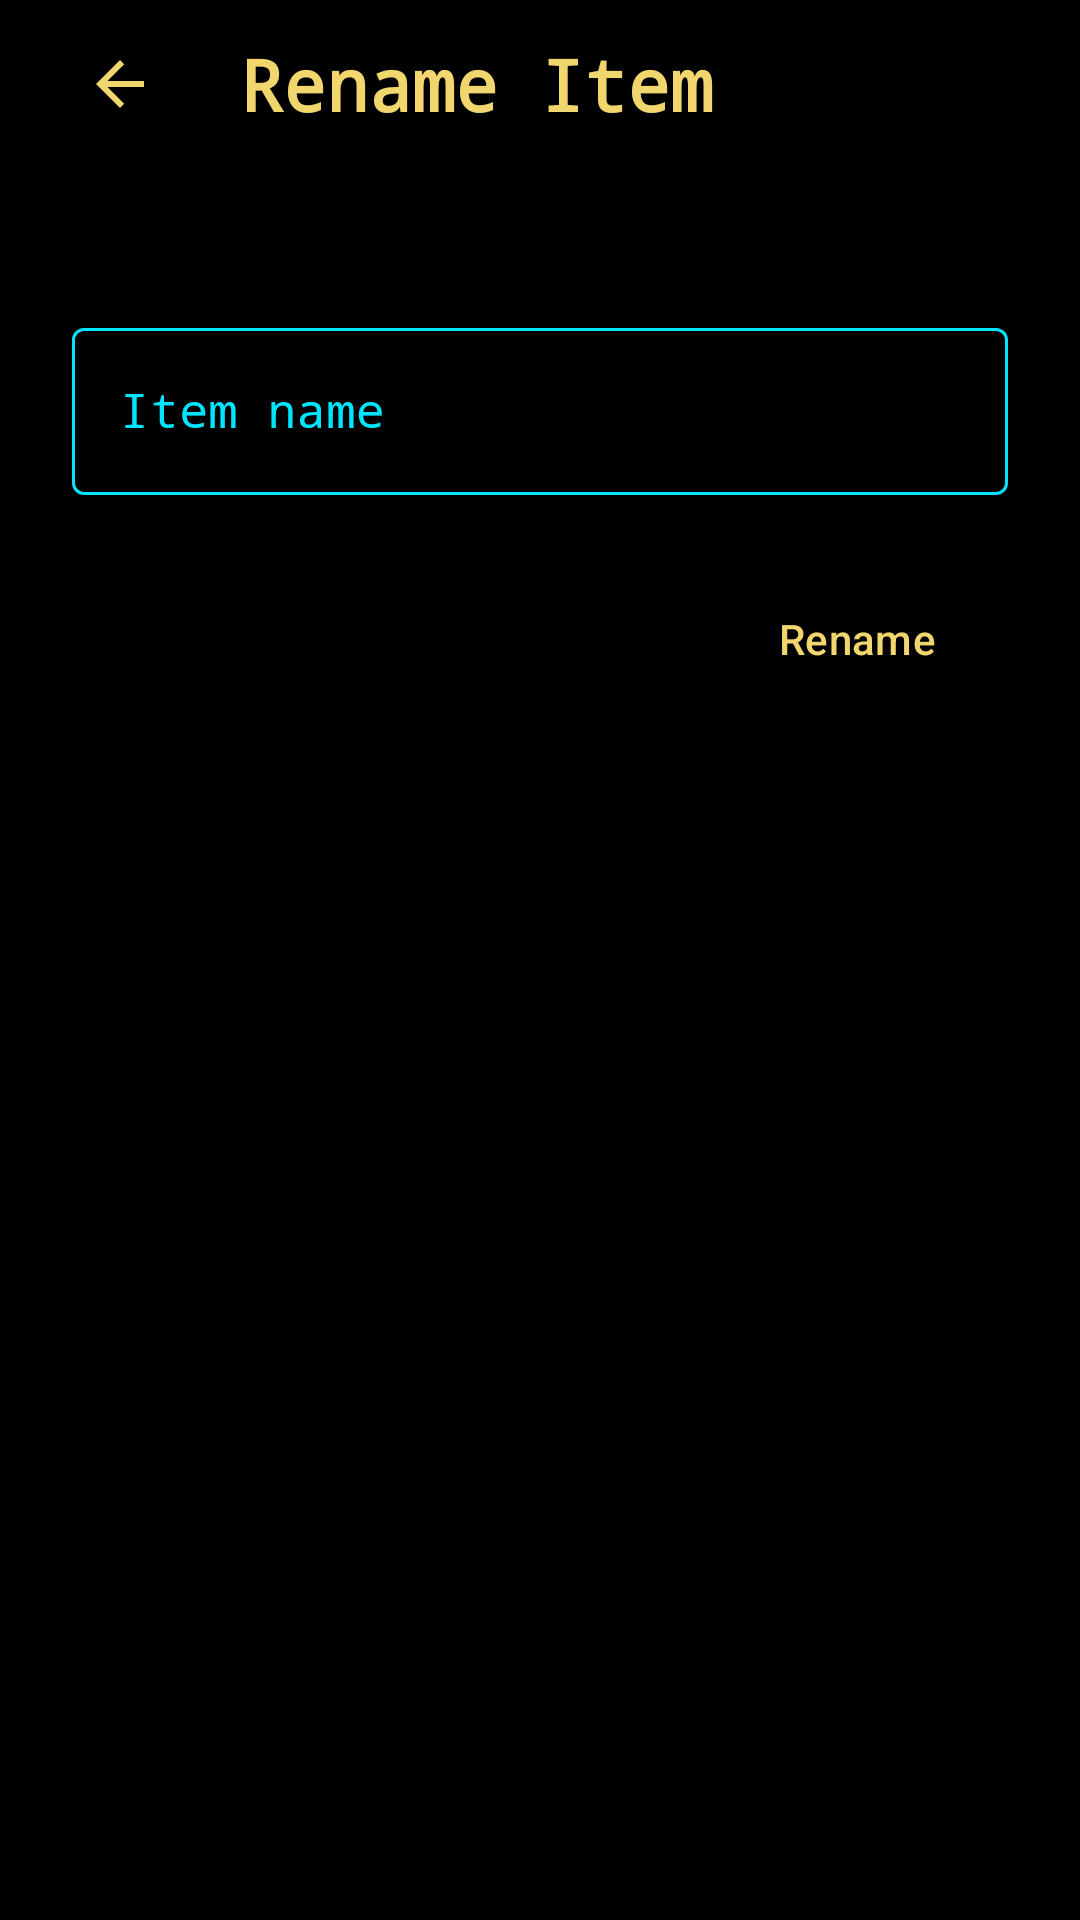

Locate icon controls on the screen. Image size 1080 x 1920, boxes as (x1, y1, x2, y2).
Back: (96, 60, 144, 108)
